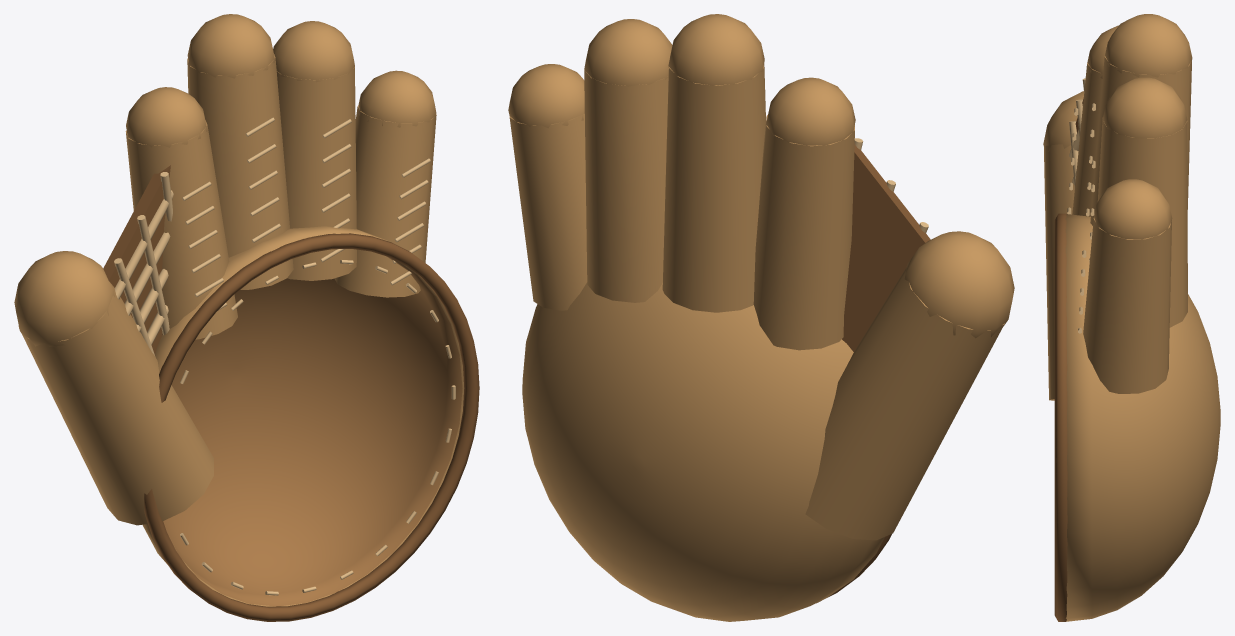
File: sports_baseball_glove.glb
The picture shows the model from 3 angles, left to right: view 1: azimuth 30°, elevation 25°; view 2: azimuth 150°, elevation 25°; view 3: azimuth 270°, elevation 25°; orthographic projection. The views are drawn at different scales.
Parts seen in each view (by area): view 1: Open cupped glove palm, Wide glove thumb, Palm opening leather edge, Glove finger 2, Glove finger 3, Glove finger 4, Glove finger 1, Rounded thumb tip, Rounded finger tip 2, Rounded finger tip 3, Rounded finger tip 1, Rounded finger tip 4 (+5 smaller); view 2: Open cupped glove palm, Wide glove thumb, Glove finger 2, Glove finger 1, Glove finger 3, Glove finger 4, Thumb and index leather web, Rounded thumb tip, Rounded finger tip 2, Rounded finger tip 1, Rounded finger tip 3, Rounded finger tip 4; view 3: Open cupped glove palm, Glove finger 4, Glove finger 3, Palm opening leather edge, Rounded finger tip 2, Rounded finger tip 3, Rounded finger tip 4, Wide glove thumb, Glove finger 1, Glove finger 2, Rounded thumb tip, Rounded finger tip 1 (+1 smaller).
Boxes of the visible parts, bbox=[...] form: Open cupped glove palm: bbox=[142, 226, 464, 606]; Wide glove thumb: bbox=[18, 286, 213, 525]; Palm opening leather edge: bbox=[144, 233, 479, 621]; Glove finger 2: bbox=[187, 54, 293, 289]; Glove finger 3: bbox=[276, 67, 356, 280]; Glove finger 4: bbox=[334, 105, 436, 297]; Glove finger 1: bbox=[125, 120, 237, 339]; Rounded thumb tip: bbox=[14, 251, 114, 346]; Rounded finger tip 2: bbox=[187, 14, 274, 78]; Rounded finger tip 3: bbox=[273, 21, 354, 82]; Rounded finger tip 1: bbox=[126, 87, 207, 147]; Rounded finger tip 4: bbox=[358, 70, 436, 127]; Open cupped glove palm: bbox=[522, 282, 884, 621]; Wide glove thumb: bbox=[805, 267, 1004, 540]; Glove finger 2: bbox=[662, 57, 765, 312]; Glove finger 1: bbox=[753, 115, 854, 350]; Glove finger 3: bbox=[584, 70, 668, 302]; Glove finger 4: bbox=[509, 113, 587, 310]; Thumb and index leather web: bbox=[842, 144, 930, 351]; Rounded thumb tip: bbox=[904, 231, 1014, 338]; Rounded finger tip 2: bbox=[668, 14, 764, 85]; Rounded finger tip 1: bbox=[766, 77, 855, 145]; Rounded finger tip 3: bbox=[584, 19, 672, 86]; Rounded finger tip 4: bbox=[508, 64, 584, 128]; Open cupped glove palm: bbox=[1065, 214, 1220, 621]; Glove finger 4: bbox=[1083, 218, 1171, 393]; Glove finger 3: bbox=[1097, 119, 1187, 327]; Palm opening leather edge: bbox=[1054, 213, 1067, 621]; Rounded finger tip 2: bbox=[1105, 14, 1192, 77]; Rounded finger tip 3: bbox=[1102, 77, 1187, 138]; Rounded finger tip 4: bbox=[1093, 179, 1172, 239]; Wide glove thumb: bbox=[1044, 144, 1074, 400]; Glove finger 1: bbox=[1072, 63, 1102, 216]; Glove finger 2: bbox=[1090, 56, 1192, 225]; Rounded thumb tip: bbox=[1043, 91, 1083, 151]; Rounded finger tip 1: bbox=[1087, 25, 1118, 78].
Size of the model in its own units: 0.2921 by 0.3655 by 0.1029.
